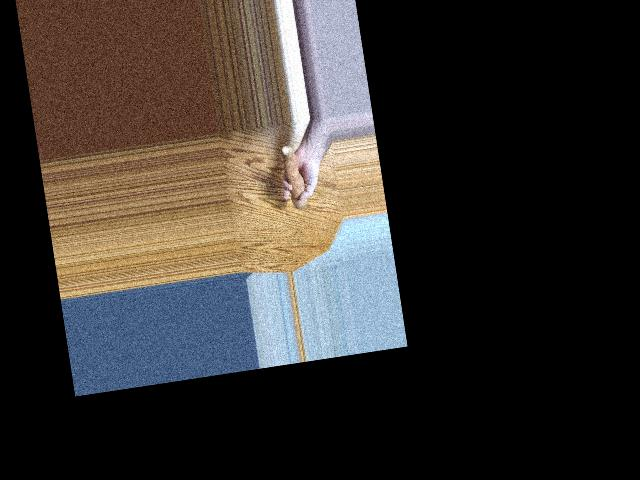sweet_potato: (278, 141, 305, 214)
